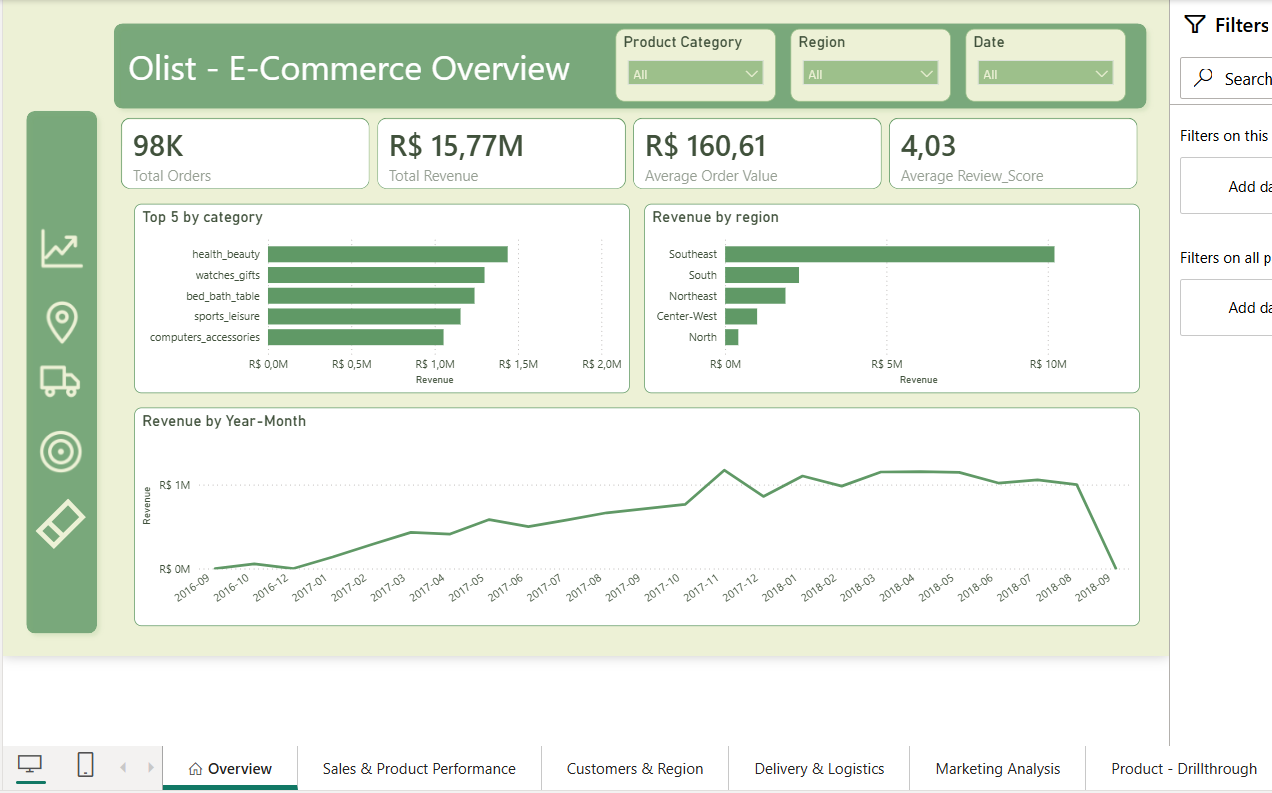

The page's visual inventory and layout, read from the dashboard file:
{"tool":"powerbi","page":{"name":"Overview","canvas":[1280,720],"ordinal":0},"visuals":[{"type":"shape","box":[16,112,96,592],"z":0,"group":"g1"},{"type":"actionButton","box":[32,496,64,64],"z":0},{"type":"actionButton","box":[32,240,64,64],"z":1000,"group":"g1"},{"type":"actionButton","box":[32,496,64,64],"z":1000},{"type":"shape","box":[112,16,1152,112],"z":2000},{"type":"actionButton","box":[32,320,64,64],"z":2000,"group":"g1"},{"type":"slicer","title":"Product Category","fields":{"Values":["olist_products4.product_category_name_english"]},"box":[672,32,176,80],"z":3000},{"type":"actionButton","box":[32,384,64,64],"z":3000,"group":"g1"},{"type":"slicer","title":"Region","fields":{"Values":["olist_customers2.customer region Hierarchy.customer region","olist_customers2.customer region Hierarchy.customer_city"]},"box":[864,32,176,80],"z":4000},{"type":"group","id":"g1","title":"Group 1","box":[16,112,96,592],"z":5000},{"type":"cardVisual","fields":{"Data":["MyMeasure.Total Orders","MyMeasure.Revenue","MyMeasure.Average per Order","Avg(olist_orders1.review_score)"]},"box":[112,112,1152,112],"z":6000},{"type":"actionButton","box":[32,544,64,64],"z":7000},{"type":"slicer","title":"Date","fields":{"Values":["Calendar.Year Hierarchy.Year","Calendar.Year Hierarchy.Quarter","Calendar.Year Hierarchy.Month"]},"box":[1056,32,176,80],"z":8000},{"type":"lineChart","fields":{"Y":["MyMeasure.Revenue"],"Category":["Calendar.Year-Month"]},"box":[144,448,1104,240],"z":9000},{"type":"barChart","title":"Revenue by region","fields":{"Y":["MyMeasure.Revenue"],"Category":["olist_customers2.customer region Hierarchy.customer region","olist_customers2.customer region Hierarchy.customer_city"]},"box":[704,224,544,208],"z":10000},{"type":"barChart","title":"Top 5 by category","fields":{"Y":["MyMeasure.Revenue"],"Category":["olist_products4.product_category_name_english"]},"box":[144,224,544,208],"z":11000},{"type":"actionButton","box":[32,464,64,64],"z":12000}]}

Visuals, with their boxes on the page's 1280x720 design canvas (x1, y1, x2, y2). These are canvas units, not pixel positions in the 1272x793 screenshot, which may show the page scaled, cropped or inside an application window:
shape: (16,112,112,704)
actionButton: (32,496,96,560)
actionButton: (32,240,96,304)
actionButton: (32,496,96,560)
shape: (112,16,1264,128)
actionButton: (32,320,96,384)
"Product Category" slicer: (672,32,848,112)
actionButton: (32,384,96,448)
"Region" slicer: (864,32,1040,112)
"Group 1" group: (16,112,112,704)
cardVisual - MyMeasure.Total Orders x MyMeasure.Revenue: (112,112,1264,224)
actionButton: (32,544,96,608)
"Date" slicer: (1056,32,1232,112)
lineChart - MyMeasure.Revenue x Calendar.Year-Month: (144,448,1248,688)
"Revenue by region" barChart: (704,224,1248,432)
"Top 5 by category" barChart: (144,224,688,432)
actionButton: (32,464,96,528)
